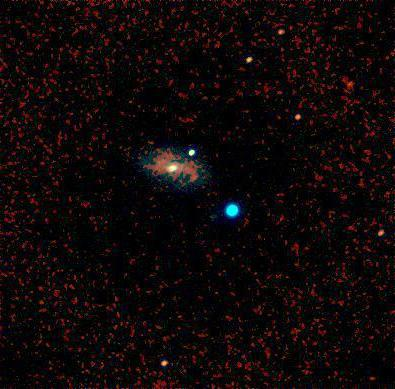star: (336, 65, 366, 95)
